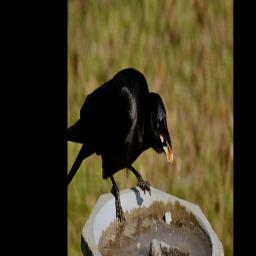Crow: (68, 66, 174, 226)
